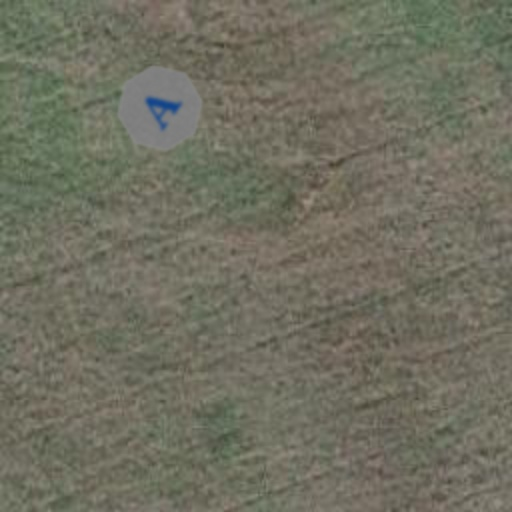octagon: (98, 46, 222, 170)
